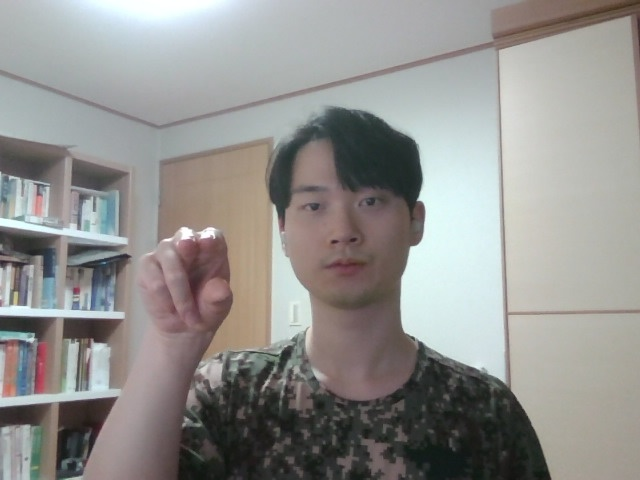no: (100, 213, 269, 369)
